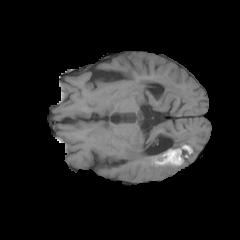glioma: (148, 75, 193, 176)
